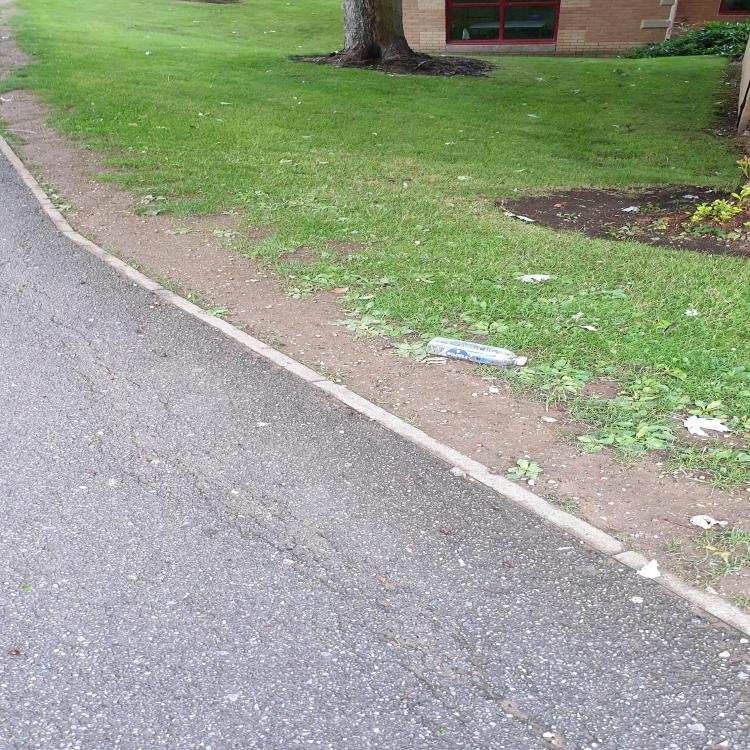Cigarette: (482, 377, 496, 380)
Clear plastic bottle: (426, 337, 527, 366)
Plastic bottle cap: (516, 356, 527, 366)
